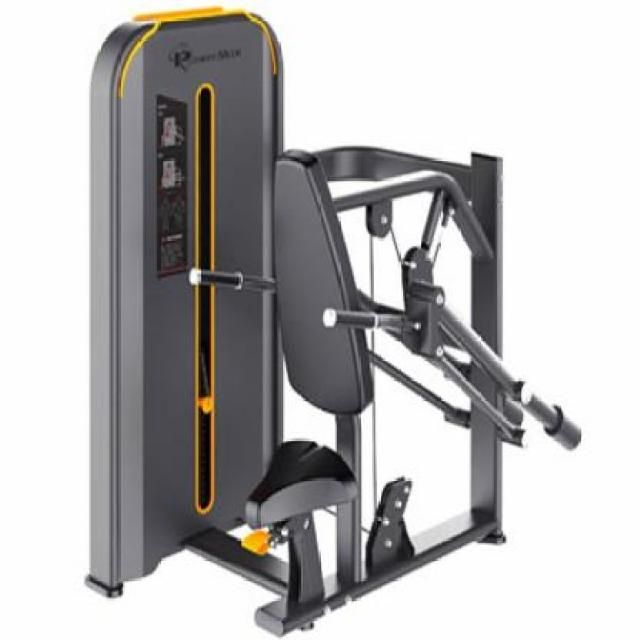seated dip machine: (92, 6, 583, 631)
